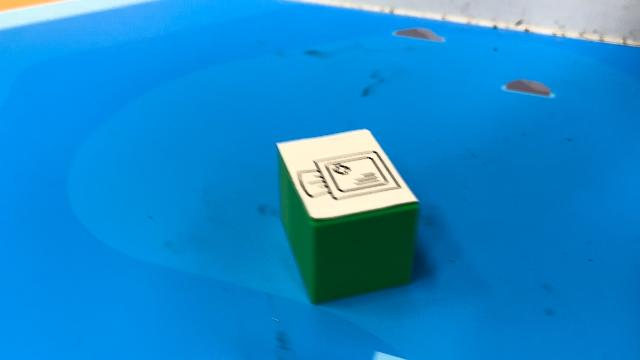napkin: (276, 127, 420, 305)
